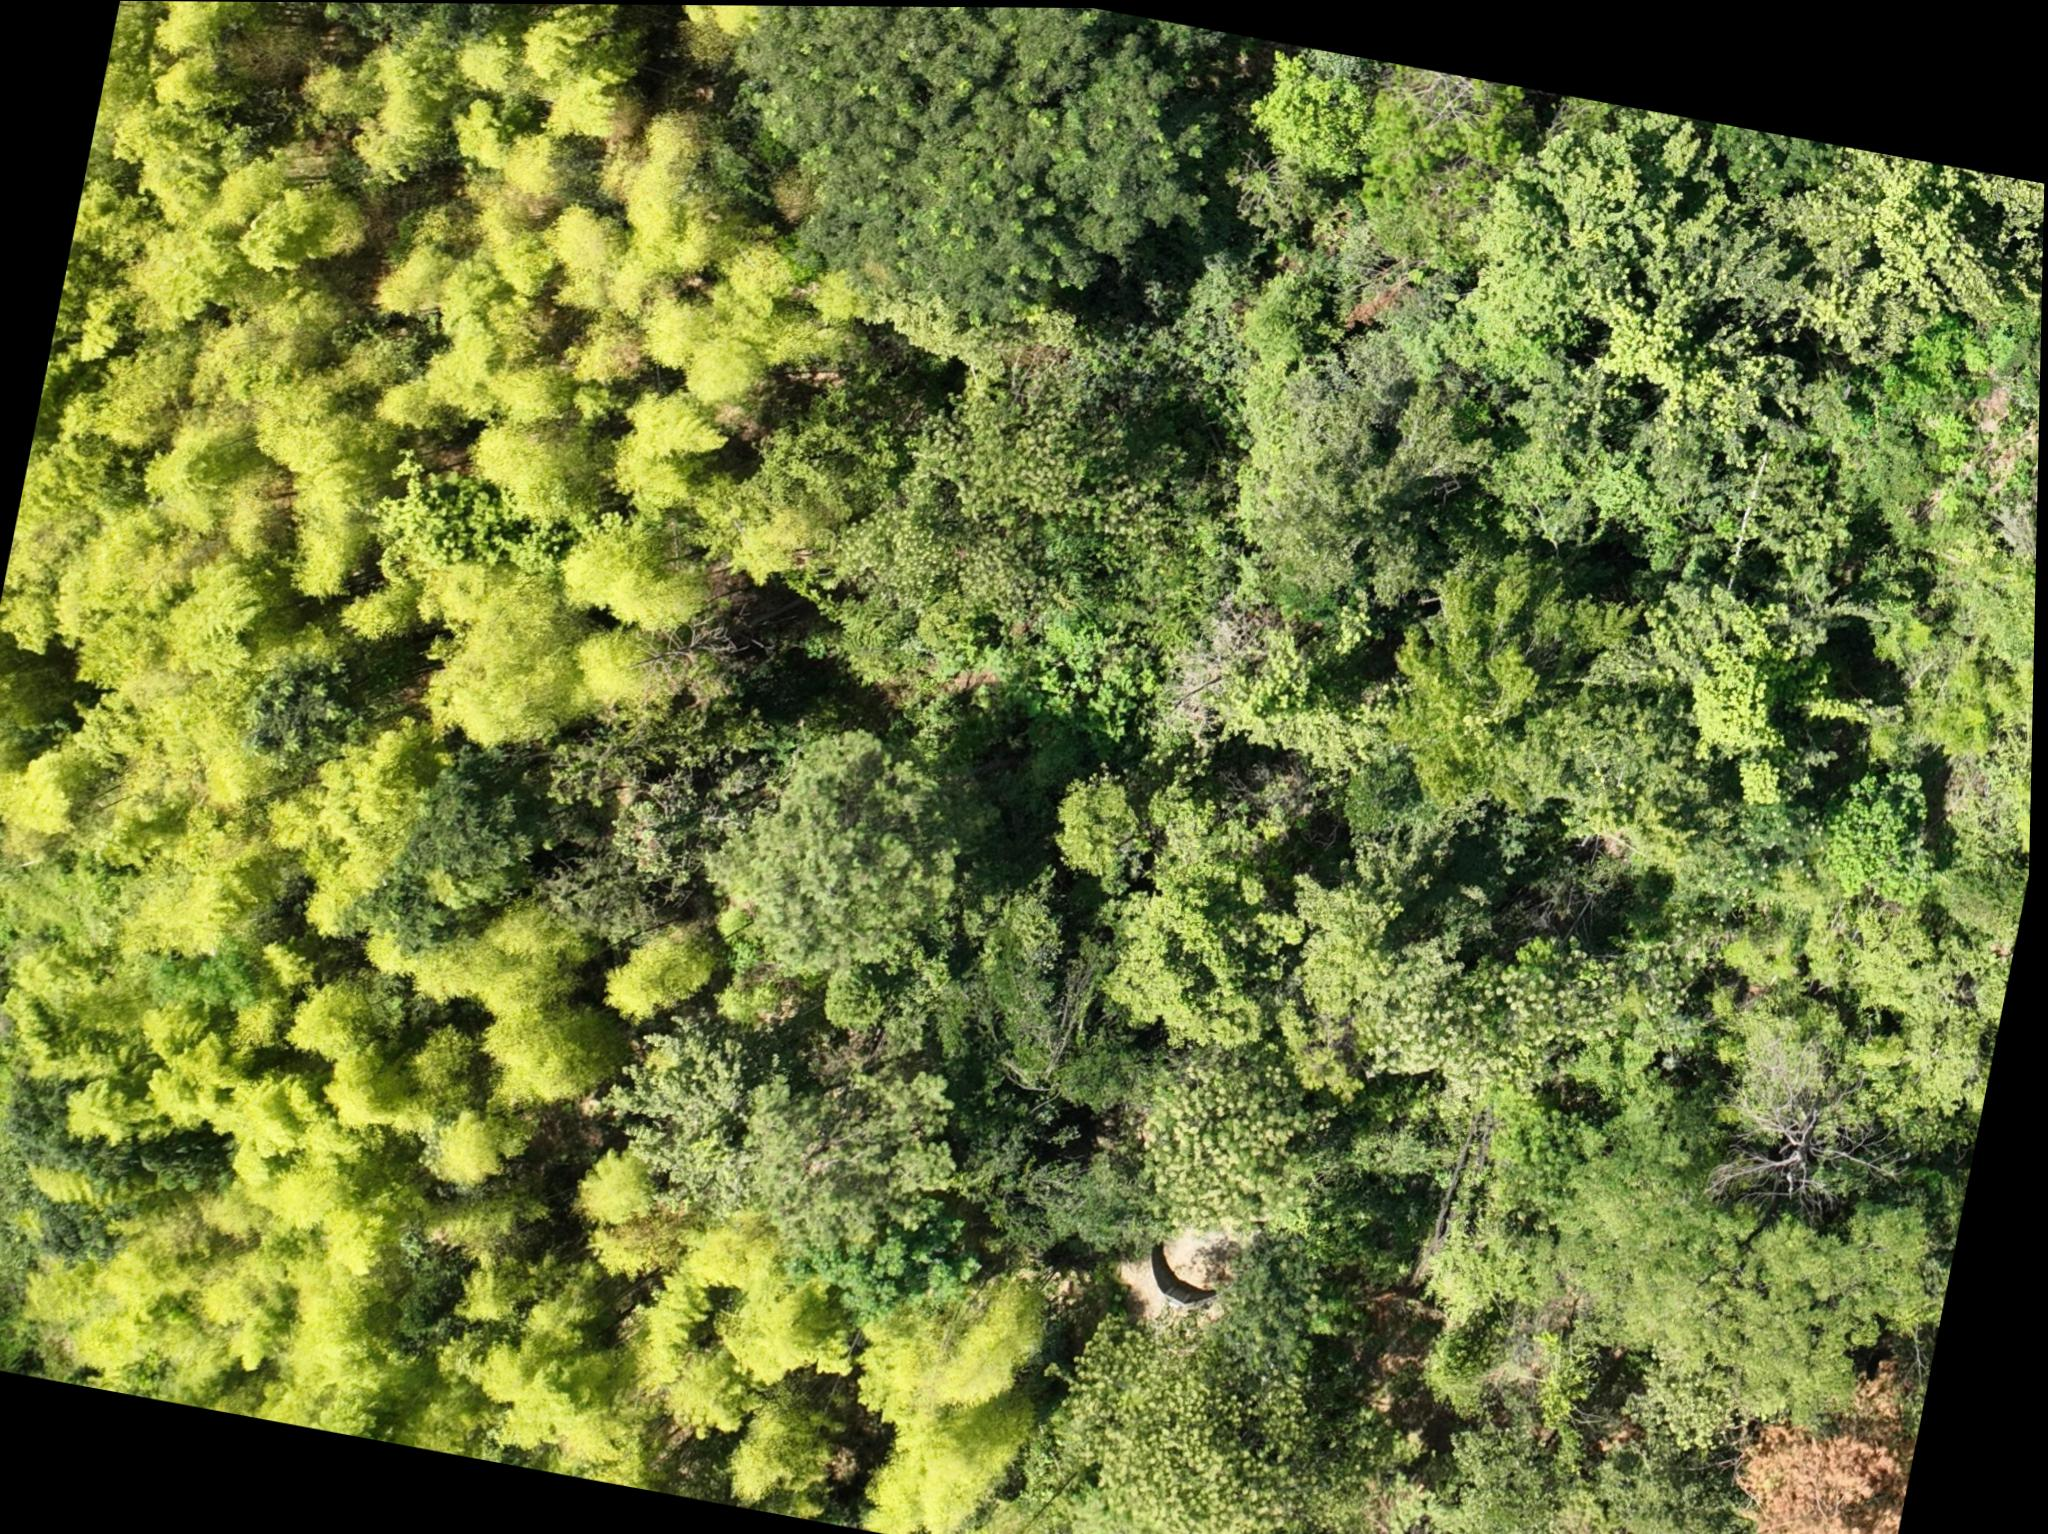heavy: (1723, 1360, 1926, 1534)
